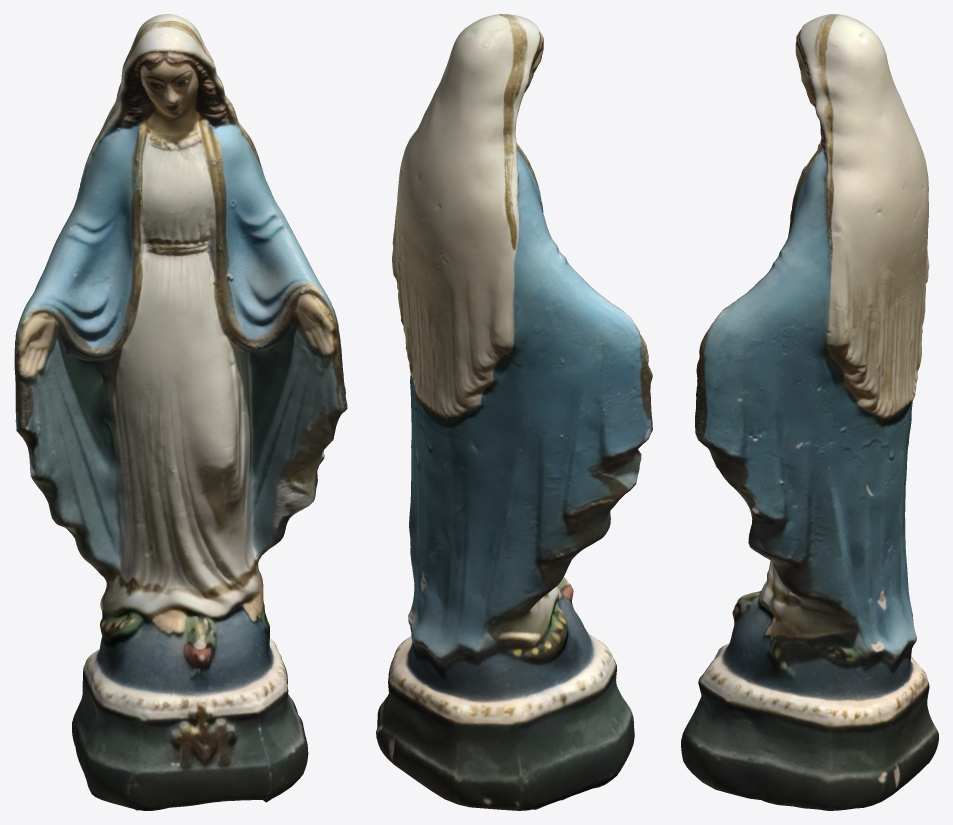
The model's file is maryGLB.glb.
3 renders of one model, left to right at view 1: azimuth 30°, elevation 25°; view 2: azimuth 150°, elevation 25°; view 3: azimuth 270°, elevation 25°, orthographic.
Parts seen in each view (by area): view 1: Object_2; view 2: Object_2; view 3: Object_2.
Boxes of the visible parts, x1,y1,x2,y2 form: Object_2: [14, 14, 347, 810]; Object_2: [376, 14, 652, 810]; Object_2: [681, 14, 938, 810].
Size of the model in its own units: 0.4452 by 1.19 by 0.3677.
1 material, 1 textured.
